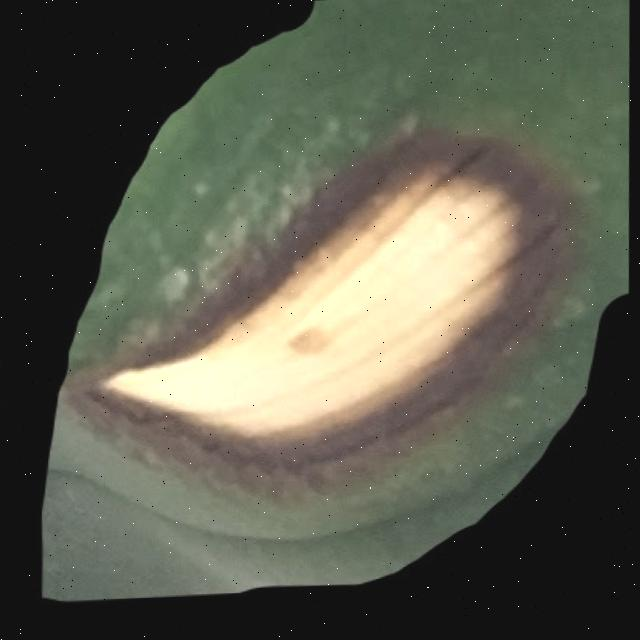mite: (200, 0, 320, 69), (436, 143, 493, 188), (178, 166, 228, 216), (268, 0, 318, 36), (160, 265, 196, 307), (184, 174, 220, 208), (501, 393, 530, 414), (190, 179, 215, 203)
sunburn: (67, 115, 588, 518)
